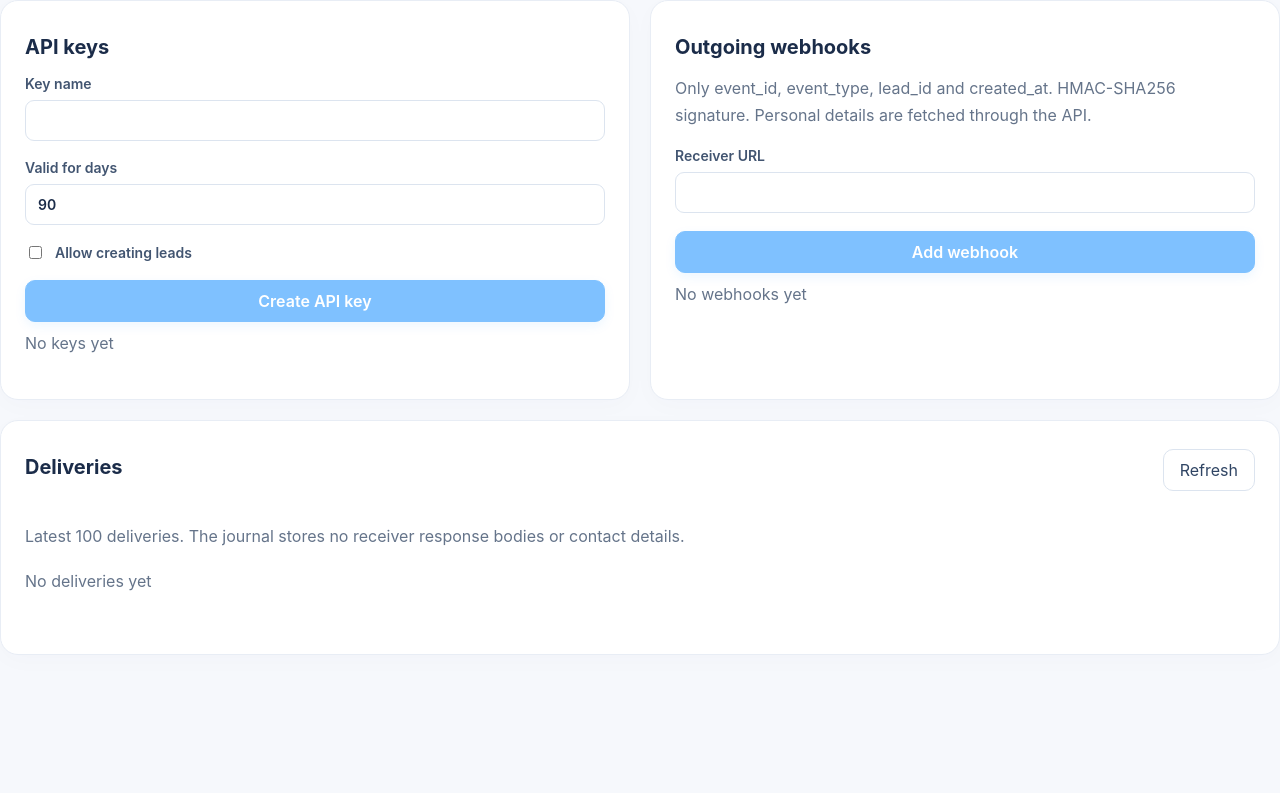
shows a newly created secret once without persisting it to browser storage
Later steps or results of the test are not shown.
Type "CRM" into the field labelled "Key name". click: point(315, 120)
box: [25,100,605,141]
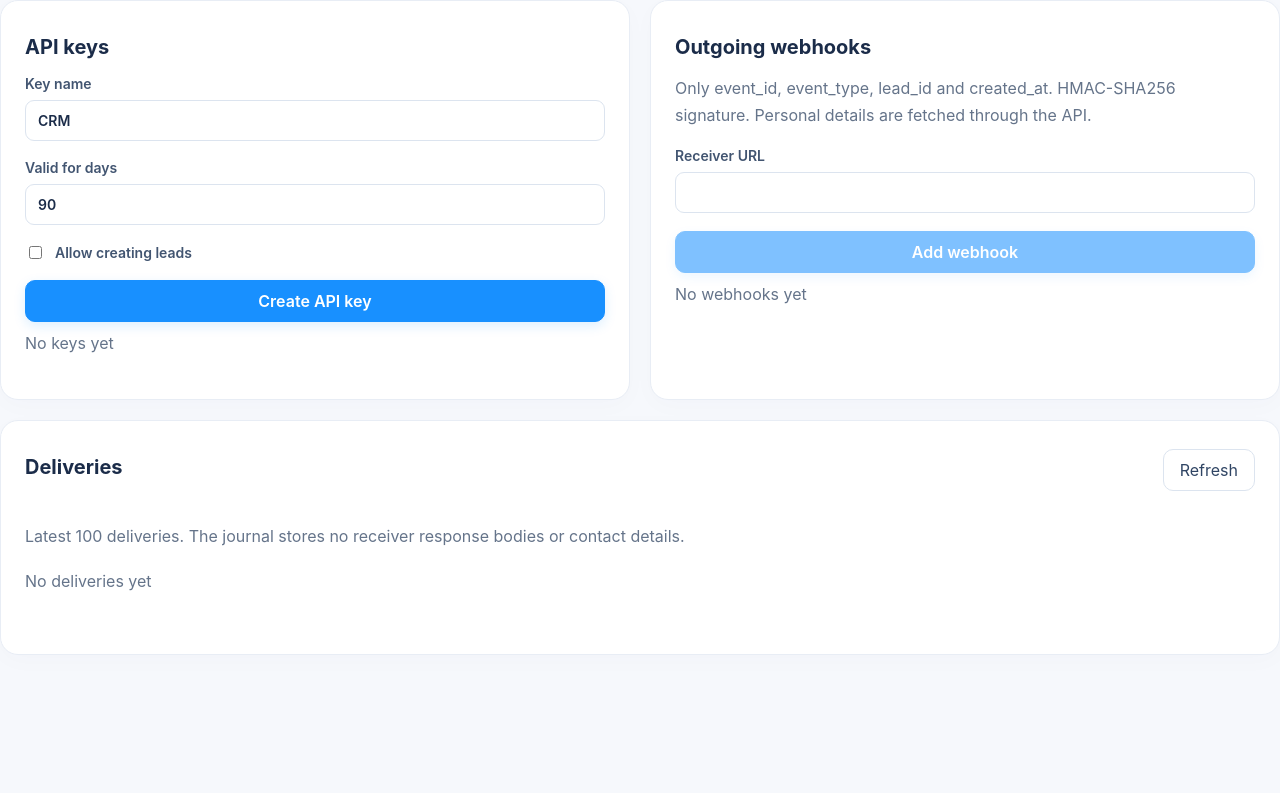
Click the checkbox labelled "Allow creating leads". click: point(36, 252)
box: [29,246,42,259]
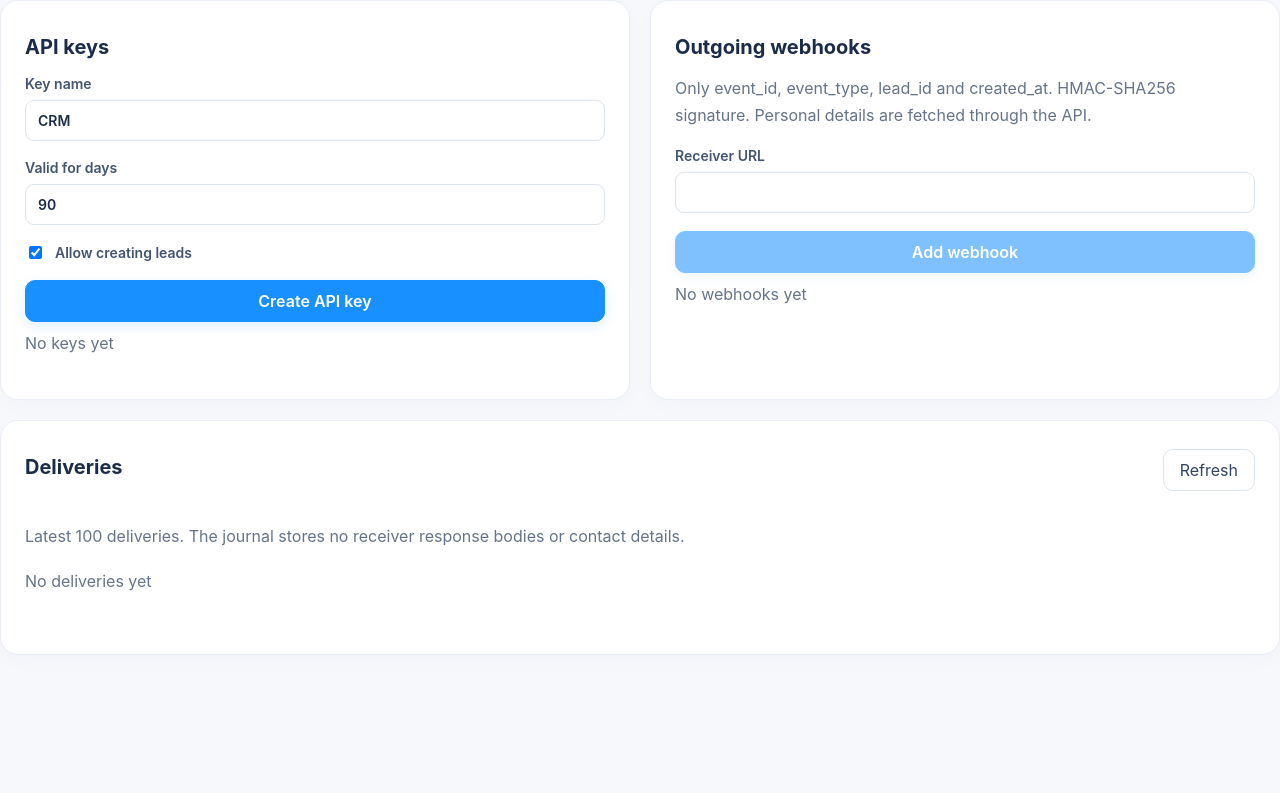
Click the button "Create API key". click: point(315, 301)
box: [25,280,605,322]
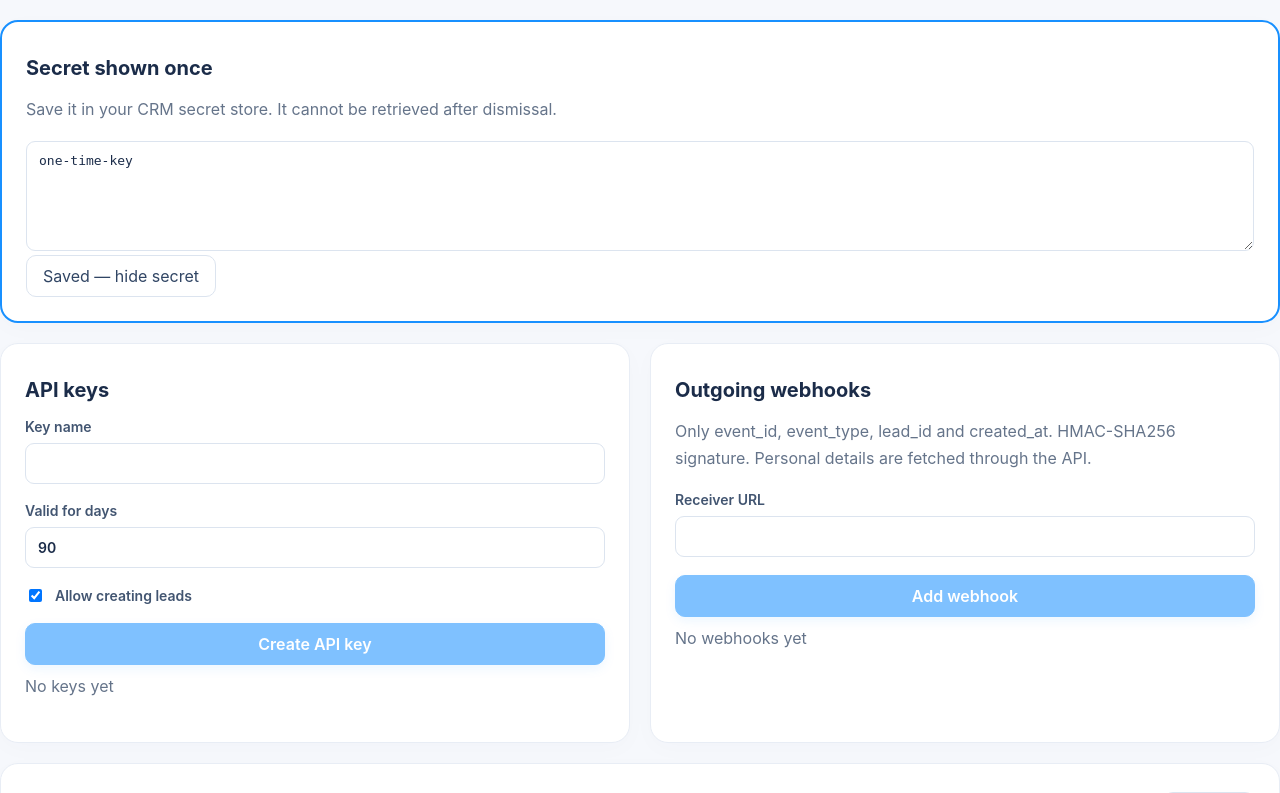
Check: the text box named "New secret" holds "one-time-key", box [26,141,1254,251]
